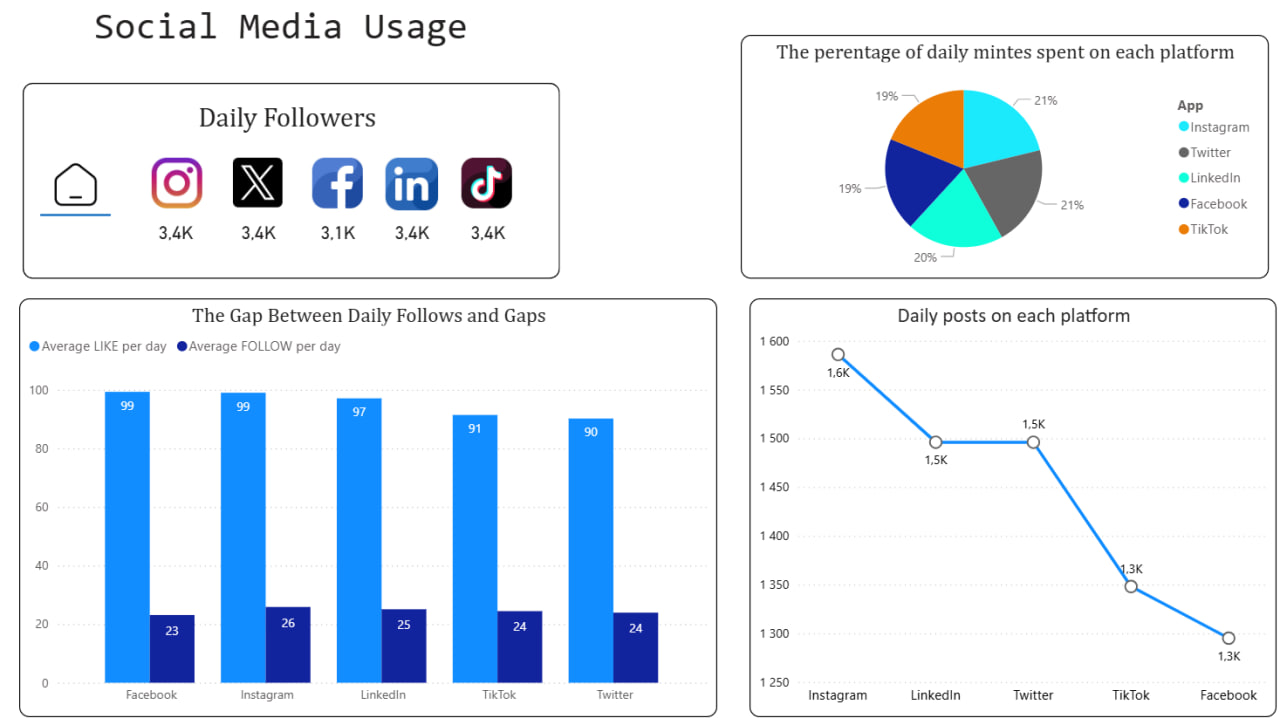

This screenshot's page, from the dashboard's own definition file:
{"tool":"powerbi","page":{"name":"Overall ","canvas":[1280,720],"ordinal":0},"visuals":[{"type":"textbox","box":[27.2,9.7,531.1,72.9],"z":0},{"type":"shape","box":[27.2,92.4,531.1,193.6],"z":1000},{"type":"image","box":[49.6,163.4,60.3,60.3],"z":2000},{"type":"image","box":[229.5,161.5,60.3,59.3],"z":3000},{"type":"image","box":[308.8,161.6,60.1,60.1],"z":4000},{"type":"image","box":[149.8,161.5,60.3,60.3],"z":5000},{"type":"shape","box":[44.9,202,70,42.2],"z":6000},{"type":"card","fields":{"Values":["smedia.insta"]},"box":[147.8,220.8,63.2,39.9],"z":7000},{"type":"image","box":[381.5,161.6,61.9,61.9],"z":8000},{"type":"textbox","box":[185.8,105,213,48.6],"z":9000},{"type":"clusteredColumnChart","title":"The Gap Between Daily Follows and Gaps ","fields":{"Category":["smedia.App"],"Y":["Avg(smedia.Likes_Per_Day)","Avg(smedia.Follows_Per_Day)"]},"box":[24.3,305.4,689.6,414.3],"z":10000},{"type":"image","box":[456.1,161.6,60.1,60.1],"z":11000},{"type":"lineChart","title":"Daily posts on each platform ","fields":{"Category":["smedia.App"],"Y":["Sum(smedia.Posts_Per_Day)"]},"box":[746,305.4,521.3,414.3],"z":12000},{"type":"pieChart","title":"The perentage of daily mintes spent on each platform ","fields":{"Category":["smedia.App"],"Y":["Sum(smedia.Daily_Minutes_Spent)"]},"box":[737.1,44.9,521.6,241.5],"z":13000},{"type":"card","fields":{"Values":["smedia.X"]},"box":[229.8,220.8,62.8,39.5],"z":14000},{"type":"card","fields":{"Values":["smedia.facebook"]},"box":[307.9,220.8,62.8,39.5],"z":15000},{"type":"card","fields":{"Values":["smedia.insta"]},"box":[381.5,220.8,62.8,39.5],"z":16000},{"type":"card","fields":{"Values":["smedia.insta"]},"box":[456.1,220.8,62.8,39.5],"z":17000}]}

Visuals, with their boxes in screenshot pixels (x1, y1, x2, y2), scaled from the page's 1280x720 canvas onto the 1280x718 screenshot:
textbox: (27,10,558,82)
shape: (27,92,558,285)
image: (50,163,110,223)
image: (230,161,290,220)
image: (309,161,369,221)
image: (150,161,210,221)
shape: (45,201,115,244)
card - smedia.insta: (148,220,211,260)
image: (382,161,443,223)
textbox: (186,105,399,153)
"The Gap Between Daily Follows and Gaps " clusteredColumnChart: (24,305,714,717)
image: (456,161,516,221)
"Daily posts on each platform " lineChart: (746,305,1267,717)
"The perentage of daily mintes spent on each platform " pieChart: (737,45,1259,286)
card - smedia.X: (230,220,293,260)
card - smedia.facebook: (308,220,371,260)
card - smedia.insta: (382,220,444,260)
card - smedia.insta: (456,220,519,260)
